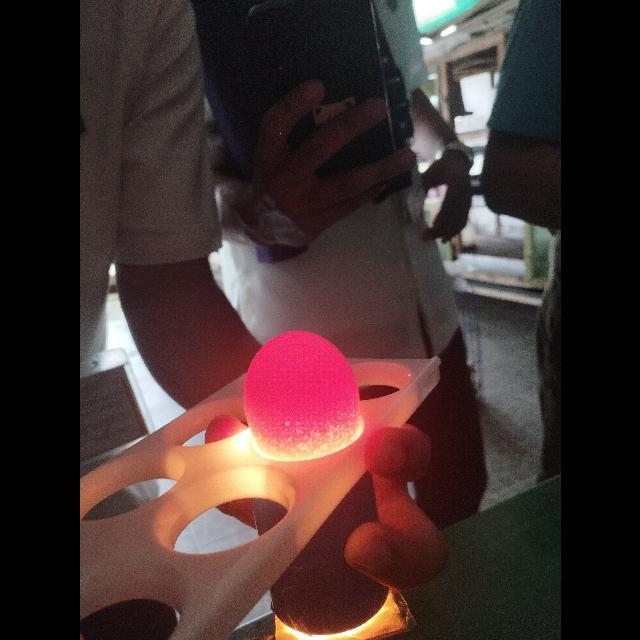Infertile: (242, 324, 360, 464)
